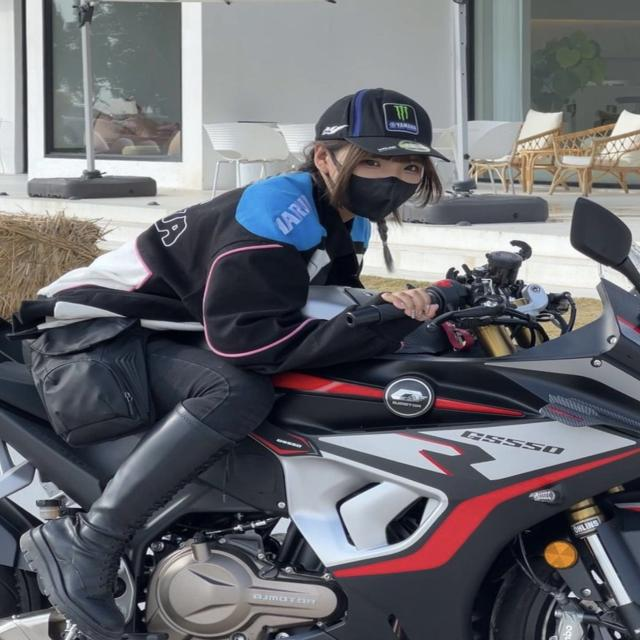illegal_helmet: (294, 77, 454, 229)
